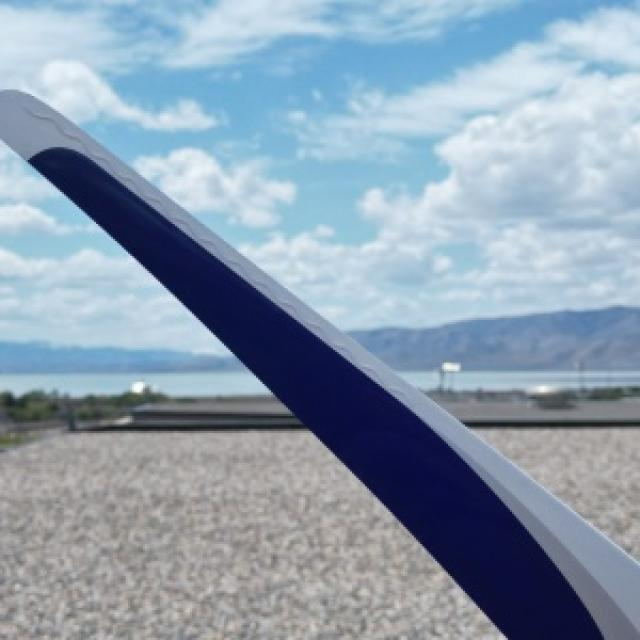healthy: (0, 90, 638, 638)
